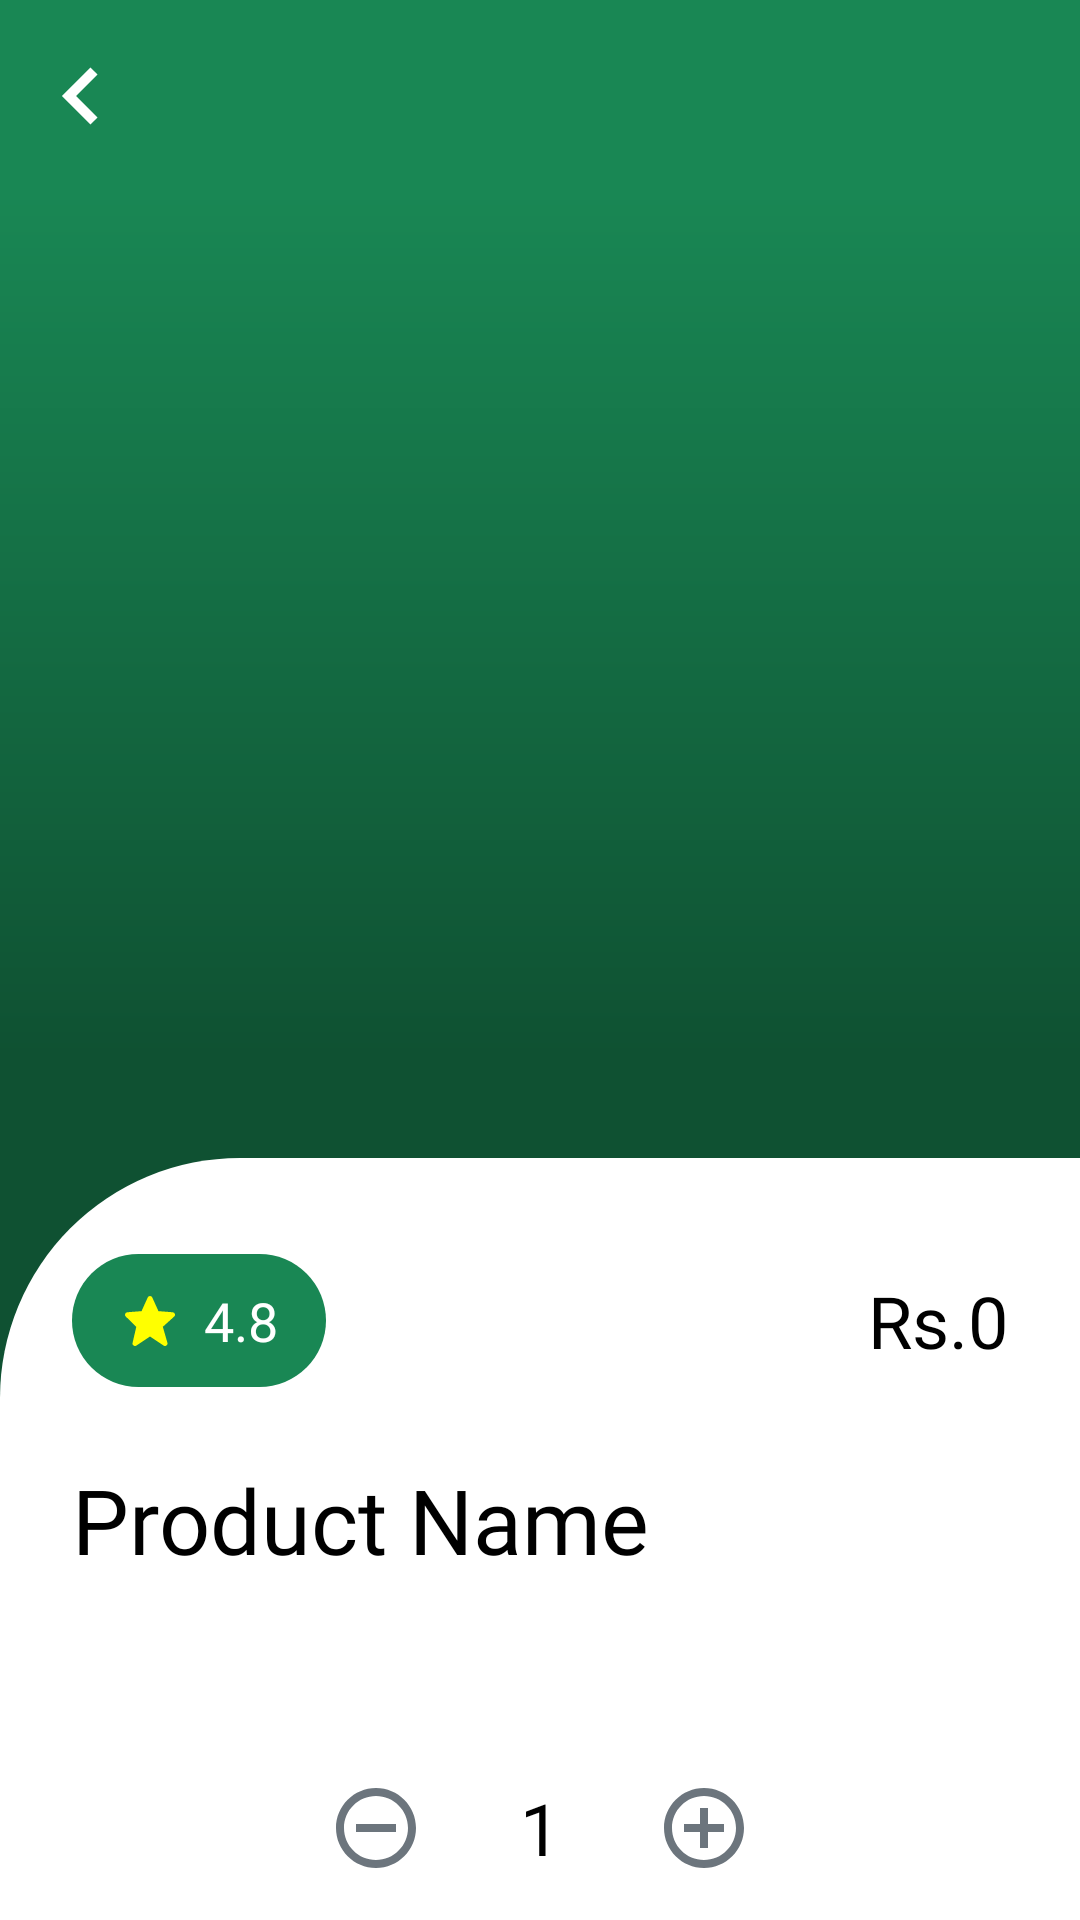

Screen size 1080*1920. Icon name, then its box in pixels as bbox=[x1, y1, x2, y2]:
minus circle: bbox=[336, 1788, 416, 1868]
plus circle: bbox=[664, 1788, 744, 1868]
star: bbox=[125, 1296, 175, 1346]
